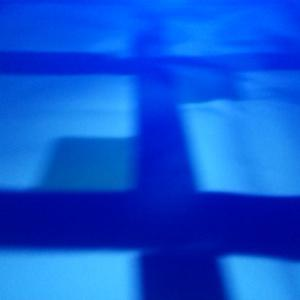bottom_right: (139, 56, 240, 105)
top_left: (41, 137, 183, 247)
